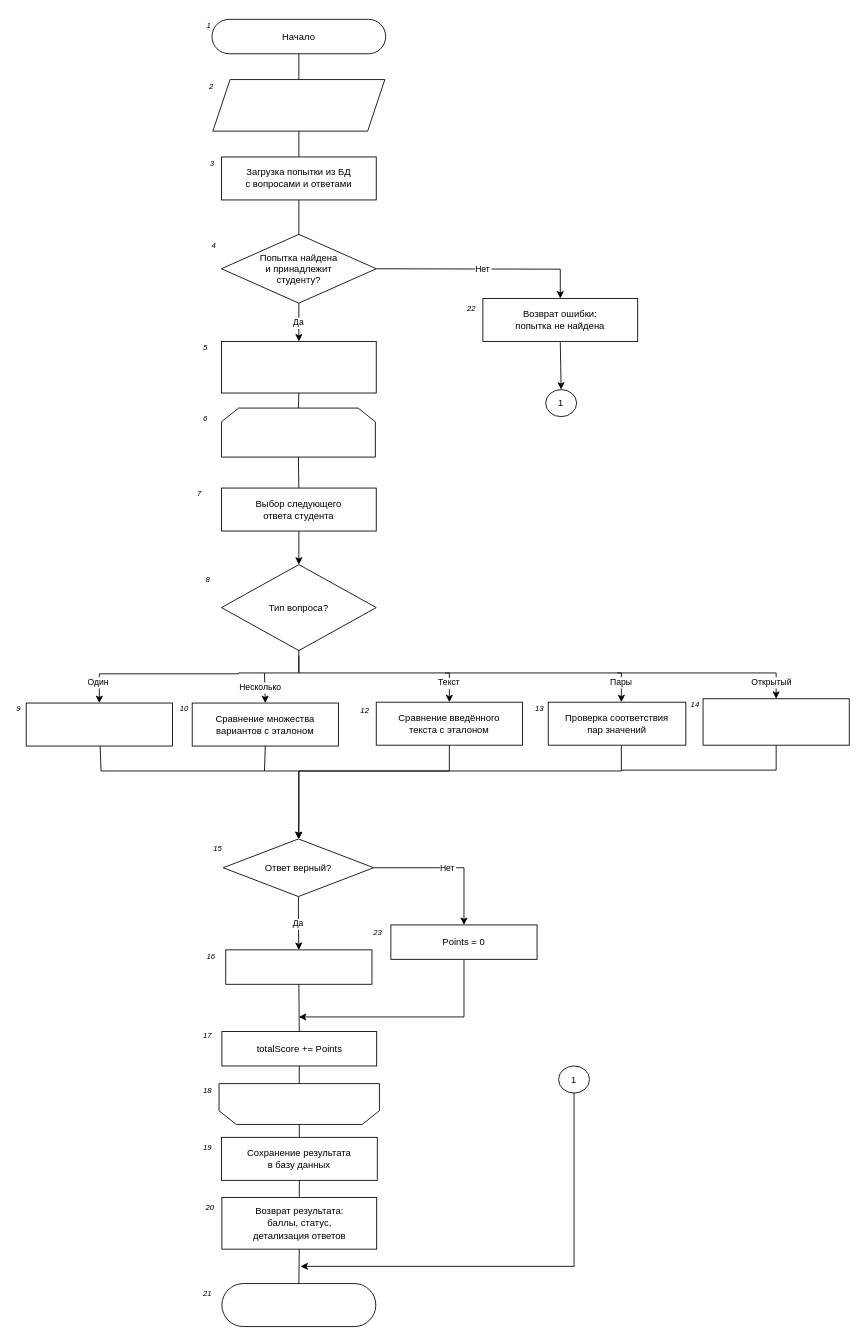
Image size: 864x1342. Some labels were removed from this diagram. Each missing label, with the box of its shape:
Points = баллы вопроса: (225, 949, 372, 984)
А1: (218, 1083, 379, 1124)
А1 Есть ответы на вопросы: (221, 407, 375, 457)
Инициализация: totalScore = 0 hasOpenAnswer = false: (221, 341, 376, 393)
Конец: (221, 1283, 376, 1327)
Получение идентификатора попытки и id студента: (212, 79, 385, 131)
Пометка: ожидает ручной проверки hasOpenAnswer = true: (702, 698, 849, 745)
Сравнение выбранного варианта с правильным: (25, 702, 172, 746)
